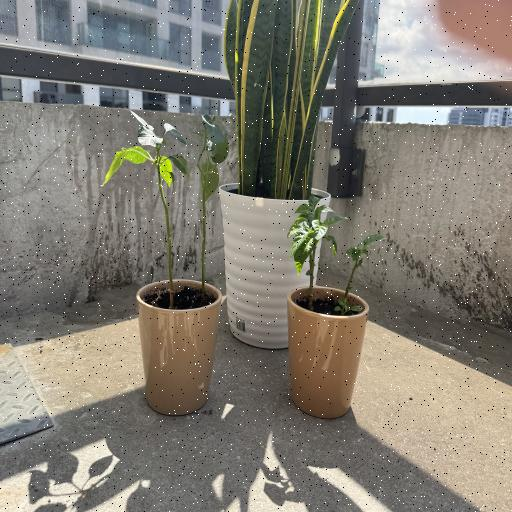Plant Pot: (219, 184, 331, 346), (135, 278, 222, 416), (287, 285, 368, 417)
